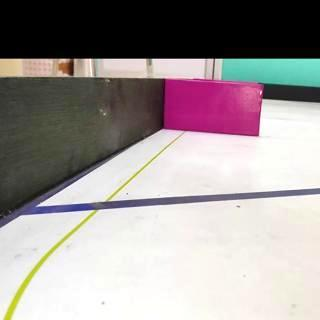xparking: (174, 82, 260, 136)
